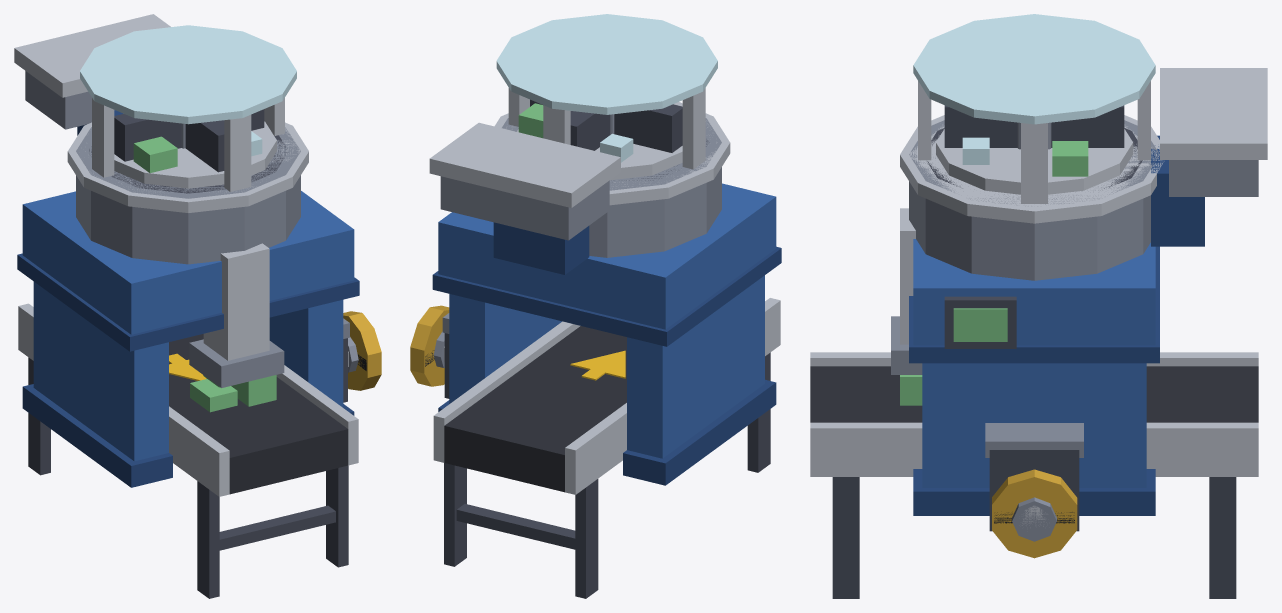
Rendered from crusher.glb.
3 renders of one model, left to right at view 1: azimuth 30°, elevation 25°; view 2: azimuth 150°, elevation 25°; view 3: azimuth 270°, elevation 25°, orthographic. The views are drawn at different scales.
Visible parts, largest first — view 1: crusher, spin-up, spin-x; view 2: crusher, spin-up, spin-x; view 3: crusher, spin-up, spin-x.
Boxes of the visible parts, <box> form: crusher: <box>14,14,359,598</box>; spin-up: <box>114,109,276,188</box>; spin-x: <box>343,311,381,390</box>; crusher: <box>429,14,781,598</box>; spin-up: <box>517,99,682,180</box>; spin-x: <box>410,305,449,386</box>; crusher: <box>810,14,1267,598</box>; spin-up: <box>936,105,1133,194</box>; spin-x: <box>992,469,1077,558</box>.
Size of the model in its own units: 0.85 by 1.22 by 1.02.
Materials: 3 (3 with a texture image).
